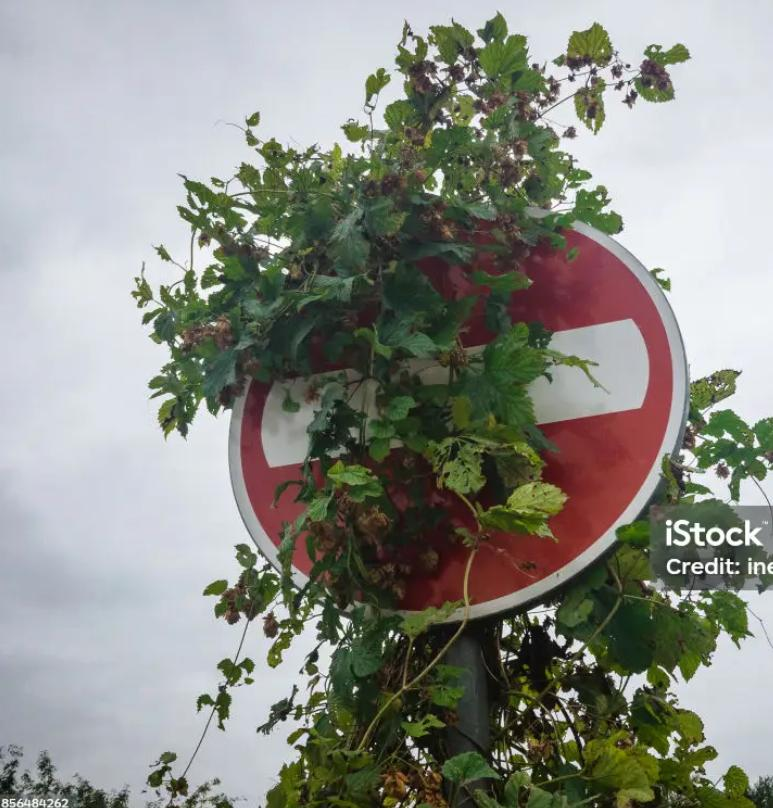obstructed_road_sign: (225, 206, 693, 630)
